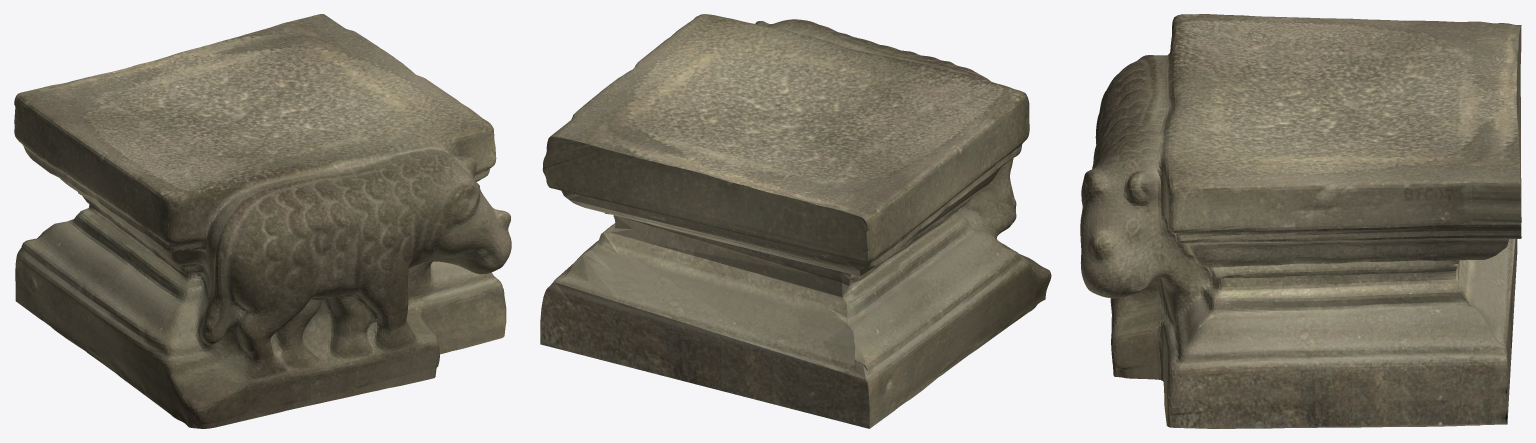
File: 11_tegiac_final.glb
3 renders of one model, left to right at view 1: azimuth 30°, elevation 25°; view 2: azimuth 150°, elevation 25°; view 3: azimuth 270°, elevation 25°, orthographic. The views are drawn at different scales.
Size of the model in its own units: 0.3451 by 0.2118 by 0.3539.
1 material, 1 textured.
